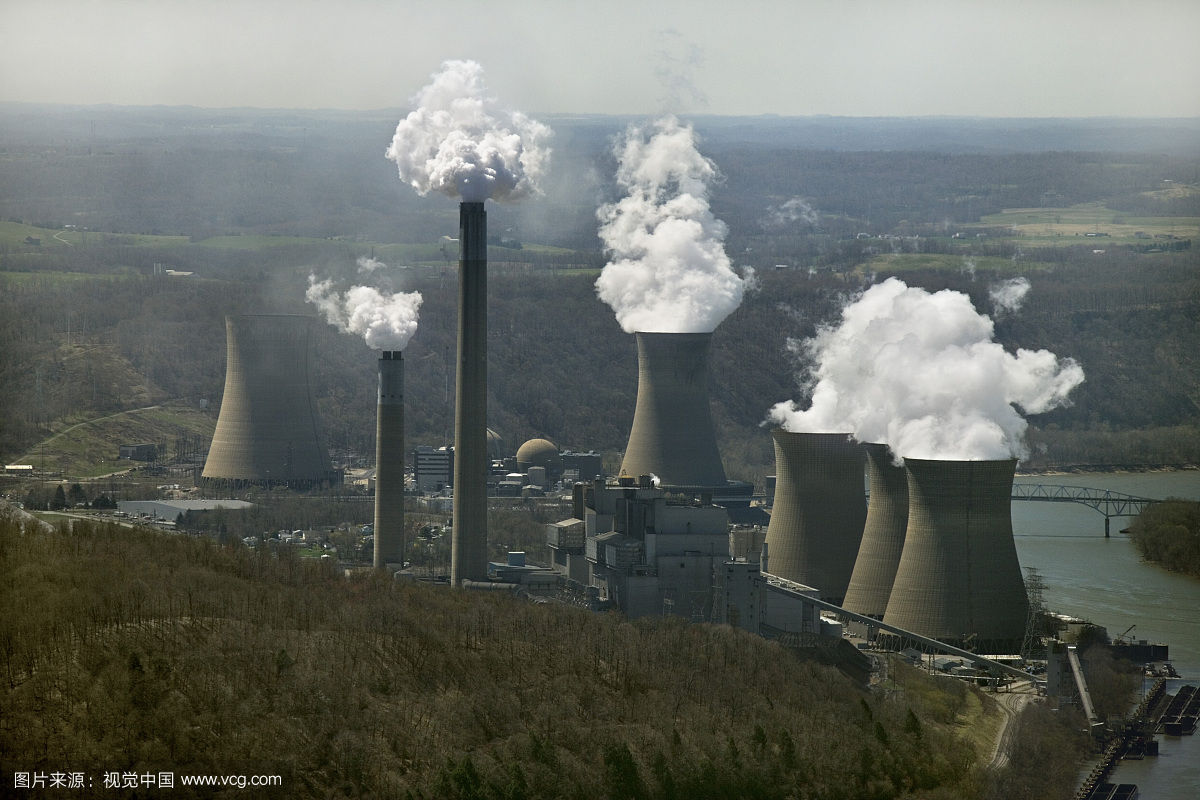dust: (777, 271, 1095, 464), (591, 81, 751, 330), (378, 51, 560, 204), (300, 248, 430, 352)
